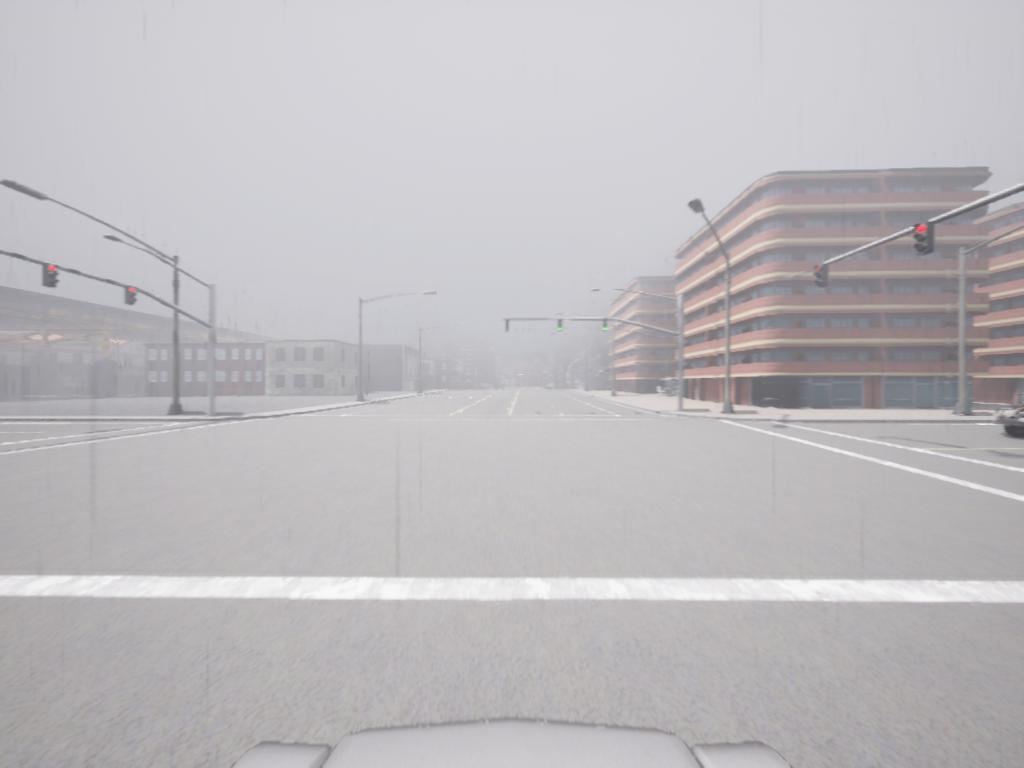traffic_light: (915, 221, 936, 254), (43, 263, 59, 287), (815, 265, 831, 288), (126, 286, 138, 306), (558, 319, 565, 333), (603, 320, 609, 333), (507, 321, 510, 332)
